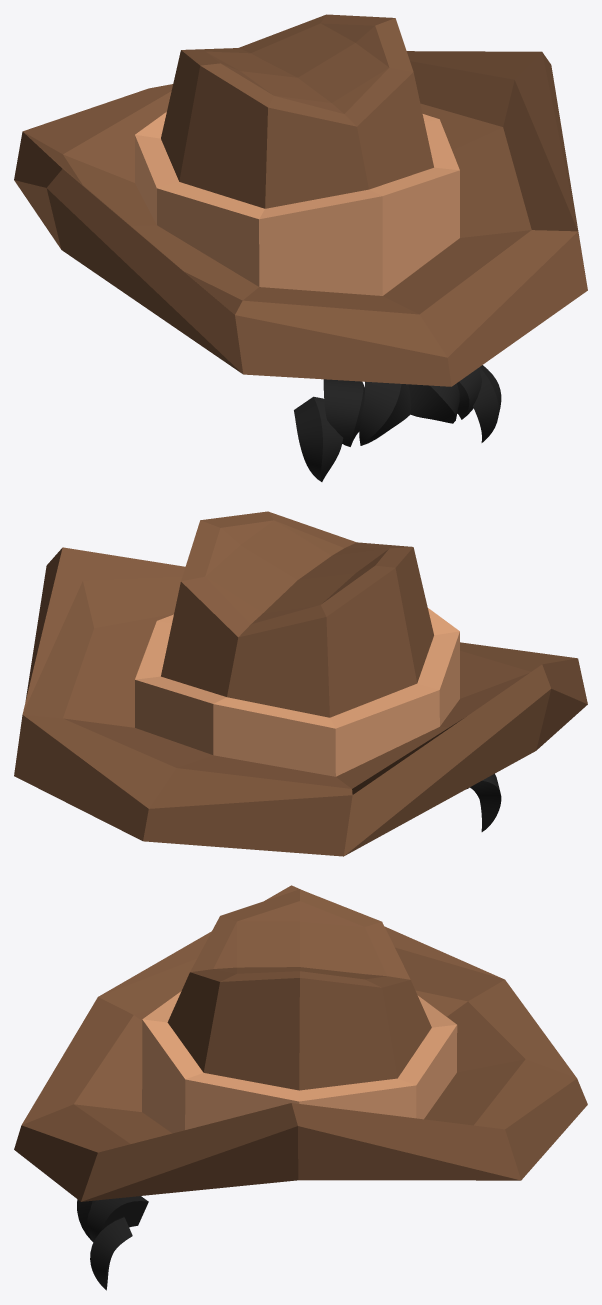
Rendered from cowboy.fbx.
The picture shows the model from 3 angles, top to bottom: view 1: azimuth 30°, elevation 25°; view 2: azimuth 150°, elevation 25°; view 3: azimuth 270°, elevation 25°; orthographic projection. The views are drawn at different scales.
Visible parts, largest first — view 1: hat, mustache; view 2: hat, mustache; view 3: hat, mustache.
Boxes of the visible parts, x1,y1,x2,y2 form: hat: (14, 14, 587, 386); mustache: (294, 365, 501, 481); hat: (14, 511, 587, 856); mustache: (467, 773, 501, 831); hat: (14, 885, 587, 1201); mustache: (77, 1196, 148, 1290).
Size of the model in its own units: 134 by 87.37 by 142.
